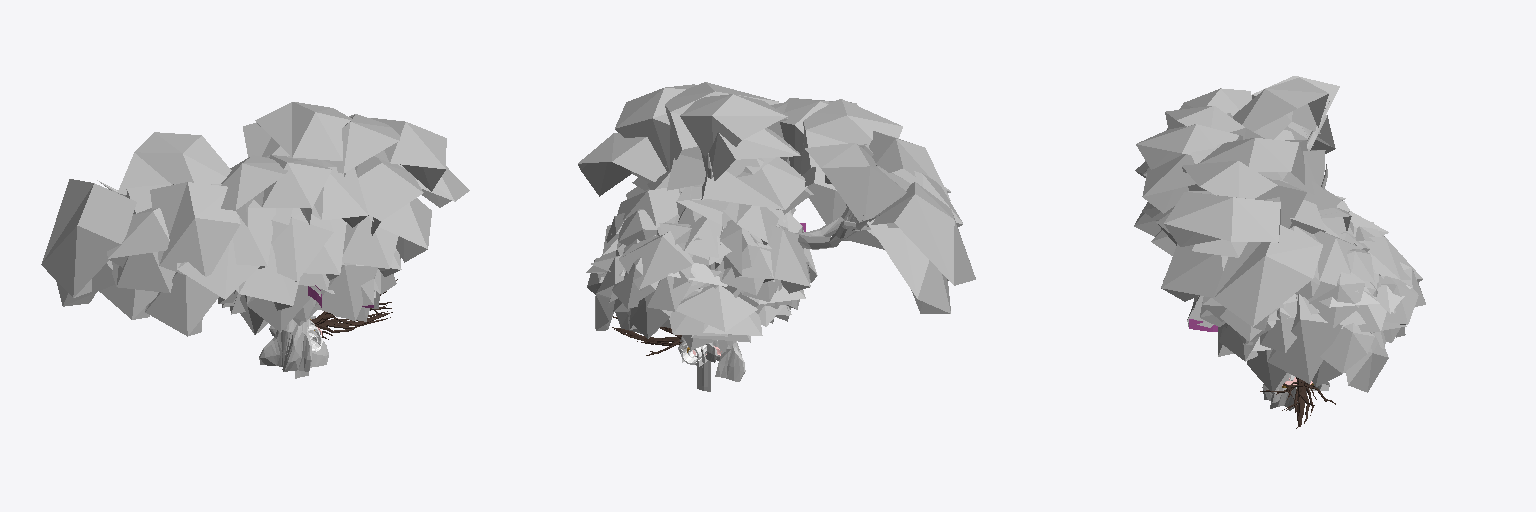
The model's file is tree.obj.
The picture shows the model from 3 angles: view 1: azimuth 30°, elevation 25°; view 2: azimuth 150°, elevation 25°; view 3: azimuth 270°, elevation 25°; orthographic projection.
Visible parts, largest first — view 1: Plane.864_Plane.004, Plane.1060_Plane.003, branchmaster; view 2: Plane.864_Plane.004, Plane.1060_Plane.003, treebrown2_leaves.001, Plane.1000_Plane.024, branchmaster; view 3: Plane.864_Plane.004, Plane.1060_Plane.003, treebrown2_leaves.001, Plane.1000_Plane.024, branchmaster.
Part boxes in pixels (bbox=[...]): Plane.864_Plane.004: bbox=[41, 102, 469, 336]; Plane.1060_Plane.003: bbox=[219, 249, 400, 334]; branchmaster: bbox=[97, 180, 328, 371]; Plane.864_Plane.004: bbox=[578, 82, 975, 313]; Plane.1060_Plane.003: bbox=[611, 170, 817, 329]; treebrown2_leaves.001: bbox=[587, 209, 792, 338]; Plane.1000_Plane.024: bbox=[586, 225, 805, 349]; branchmaster: bbox=[696, 153, 876, 381]; Plane.864_Plane.004: bbox=[1134, 76, 1341, 330]; Plane.1060_Plane.003: bbox=[1187, 196, 1422, 393]; treebrown2_leaves.001: bbox=[1230, 222, 1425, 392]; Plane.1000_Plane.024: bbox=[1249, 255, 1411, 350]; branchmaster: bbox=[1262, 101, 1329, 410].
Size of the model in its own units: 24.45 by 16.48 by 15.47.